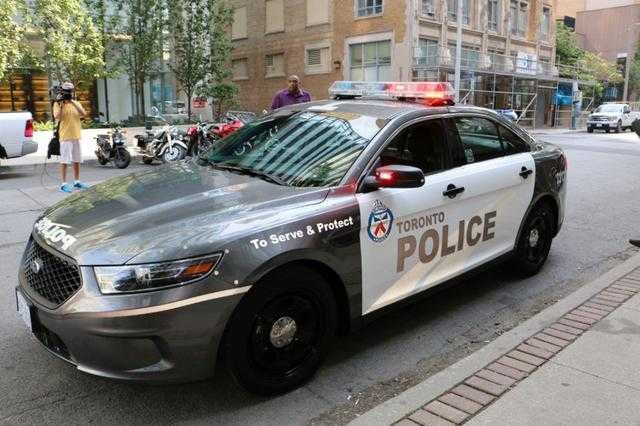Police Car: (27, 59, 578, 386)
